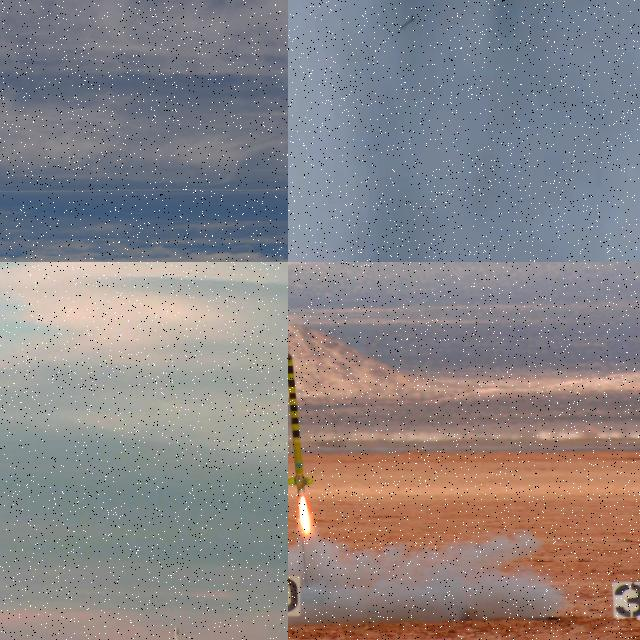Rocket: (288, 352, 313, 493), (398, 13, 415, 30), (173, 626, 183, 640)
